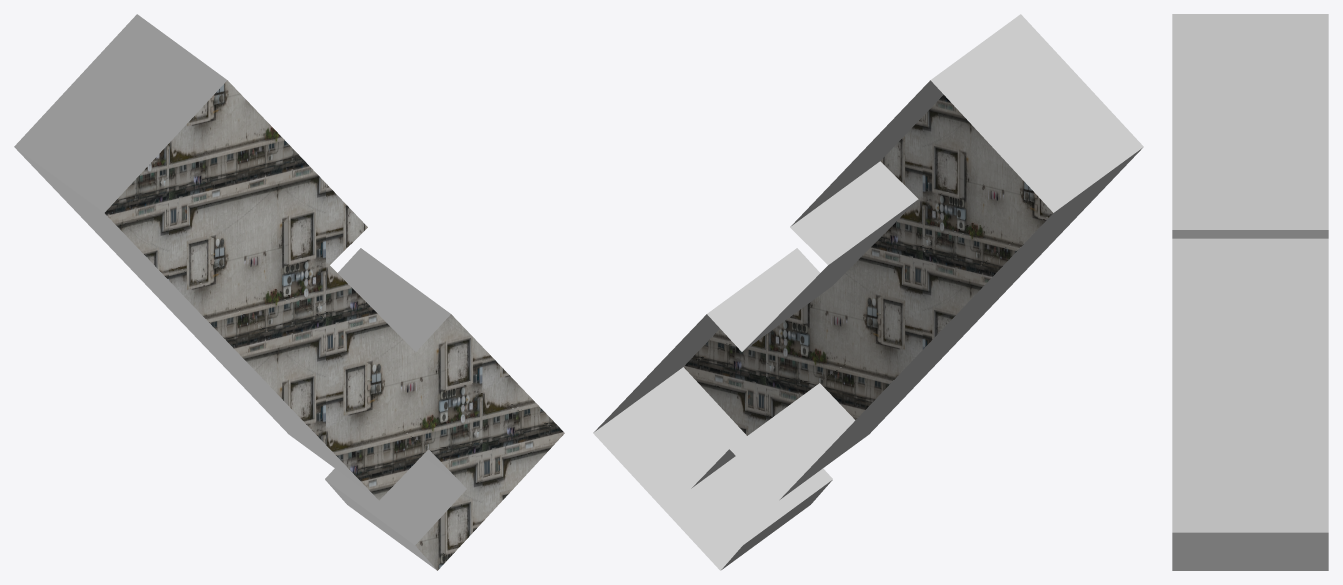
File: geospecific_1361.obj
The picture shows the model from 3 angles, left to right: view 1: azimuth 30°, elevation 25°; view 2: azimuth 150°, elevation 25°; view 3: azimuth 270°, elevation 25°; orthographic projection. The views are drawn at different scales.
Parts seen in each view (by area): view 1: Building; view 2: Building; view 3: Building.
Part boxes in pixels (box(x1,y1,x2,y2)): Building: box(14, 14, 564, 570); Building: box(593, 14, 1143, 570); Building: box(1172, 14, 1328, 570).
Bounding box in the file's own units: 17.64 × 19.84 × 6.
